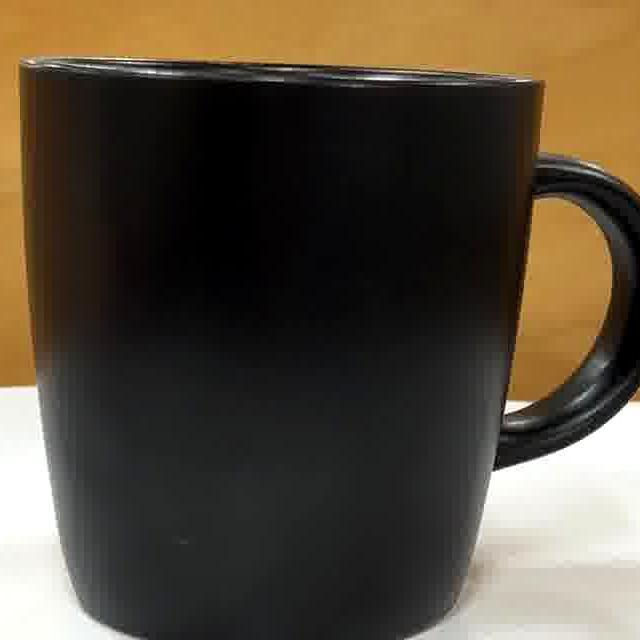cup: (28, 62, 640, 640)
